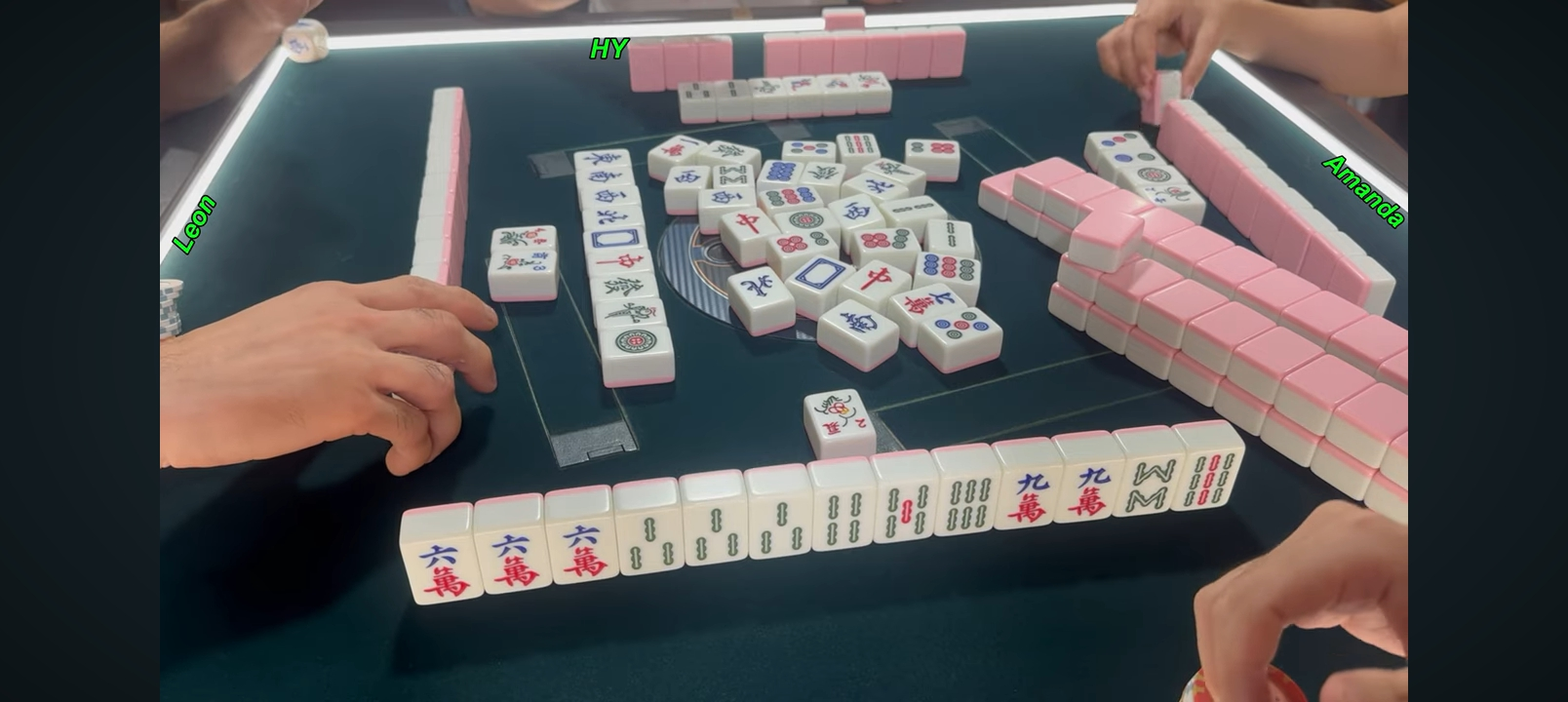TILE: (403, 538, 481, 604), (476, 529, 550, 593), (548, 520, 618, 583), (681, 501, 750, 564), (750, 492, 812, 558), (615, 511, 682, 571), (1061, 462, 1125, 522), (813, 488, 874, 550), (878, 482, 941, 541), (1179, 451, 1242, 509), (1122, 458, 1182, 517), (1000, 469, 1060, 526), (806, 389, 875, 438), (941, 477, 1001, 533)
